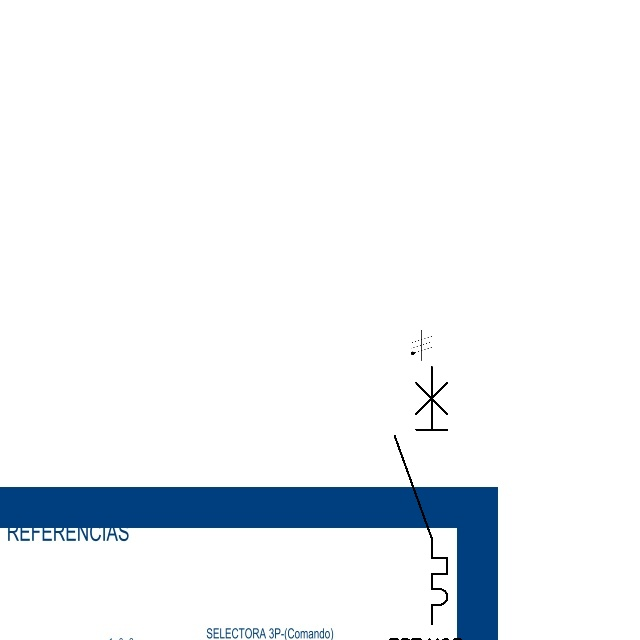interruptor_termomagnetico: (388, 360, 454, 630)
